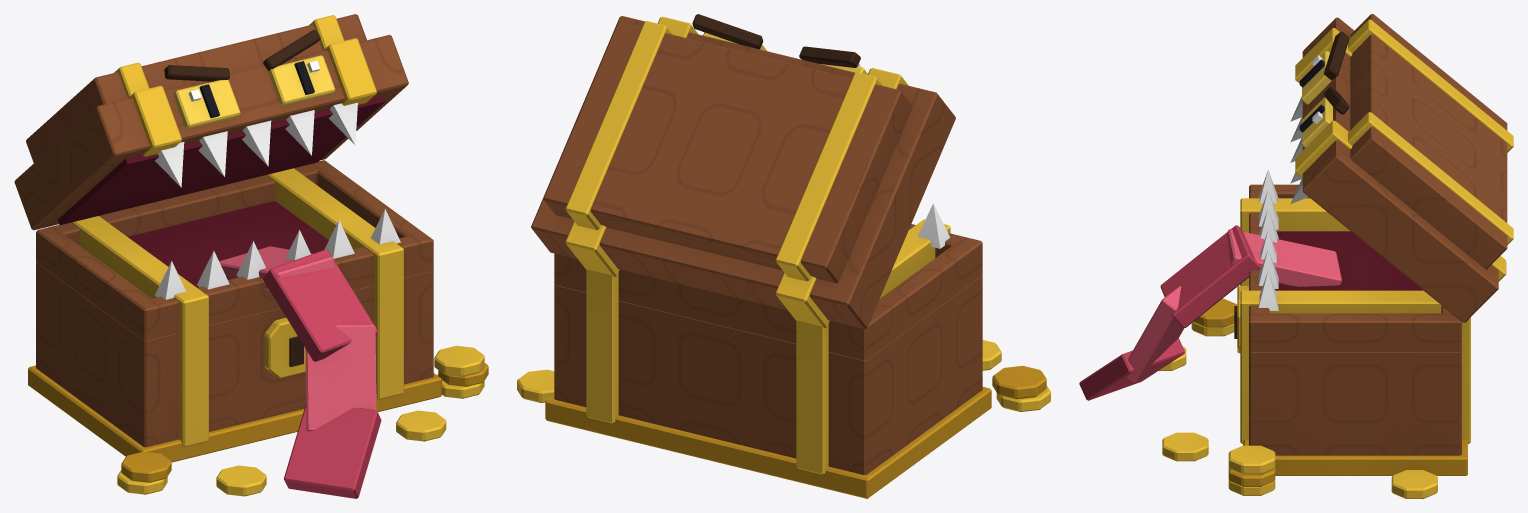
Rendered from MimicChest.fbx.
3 renders of one model, left to right at view 1: azimuth 30°, elevation 25°; view 2: azimuth 150°, elevation 25°; view 3: azimuth 270°, elevation 25°, orthographic. The views are drawn at different scales.
Visible parts, largest first — view 1: Art_MimicChest; view 2: Art_MimicChest; view 3: Art_MimicChest.
Part boxes in pixels (bbox=[...]): Art_MimicChest: bbox=[14, 14, 488, 498]; Art_MimicChest: bbox=[517, 14, 1050, 498]; Art_MimicChest: bbox=[1079, 14, 1513, 498].
Size of the model in its own units: 2.91 by 2.55 by 2.94.
